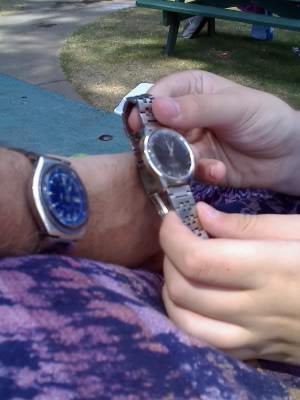watch: (123, 94, 213, 241), (10, 138, 91, 257)
